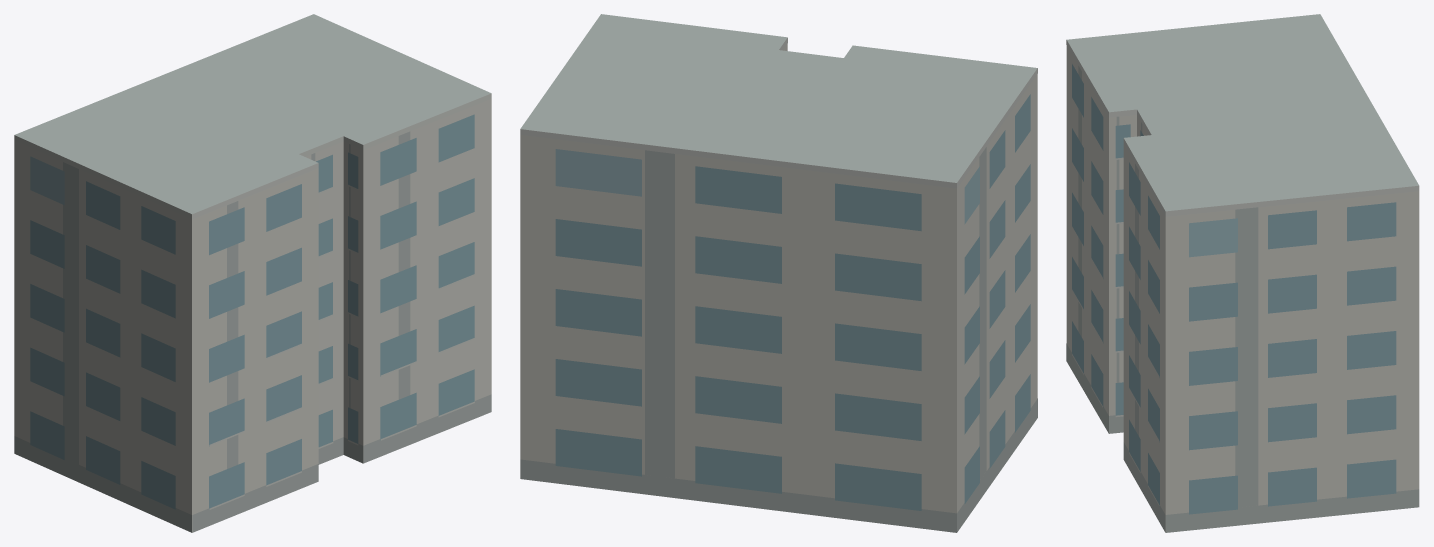
The model's file is survey-upis-32826523.glb.
3 renders of one model, left to right at view 1: azimuth 30°, elevation 25°; view 2: azimuth 150°, elevation 25°; view 3: azimuth 270°, elevation 25°, orthographic. The views are drawn at different scales.
Parts seen in each view (by area): view 1: survey-upis-32826523.tmp; view 2: survey-upis-32826523.tmp; view 3: survey-upis-32826523.tmp.
Boxes of the visible parts, x1=… form: survey-upis-32826523.tmp: x1=14, y1=14, x2=491, y2=532; survey-upis-32826523.tmp: x1=520, y1=14, x2=1037, y2=532; survey-upis-32826523.tmp: x1=1066, y1=14, x2=1419, y2=532.
Size of the model in its own units: 19.49 by 14.8 by 14.73.
